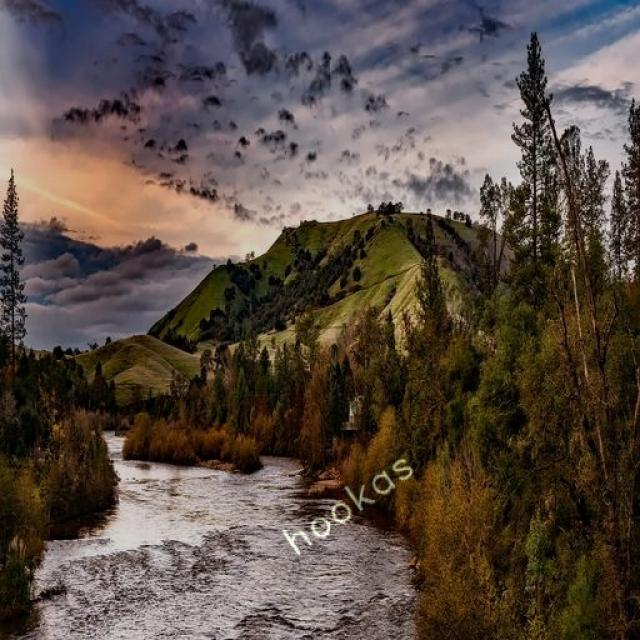watermark: (284, 439, 416, 564)
